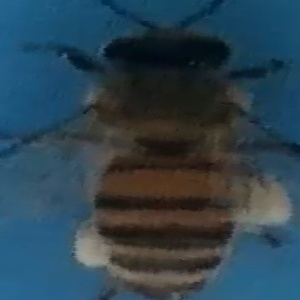bee: (43, 2, 295, 300)
